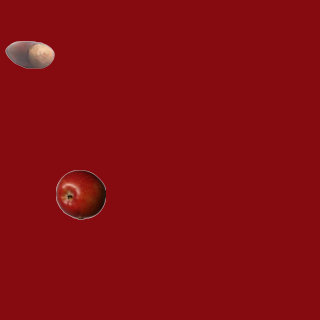Apple Braeburn: (55, 169, 105, 219)
Hazelnut: (4, 29, 54, 79)
